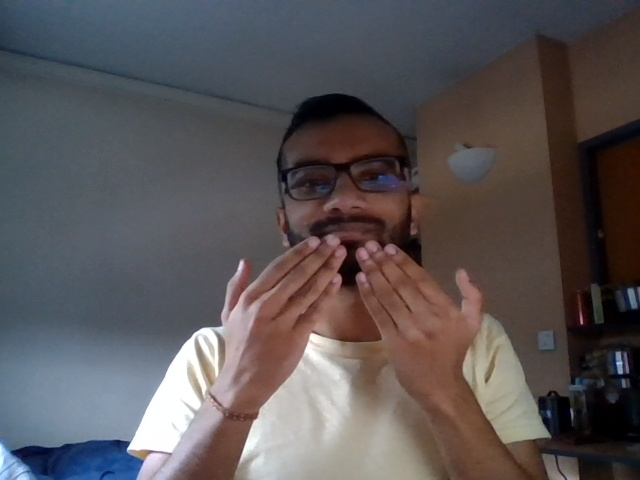Thanks: (200, 228, 501, 394)
